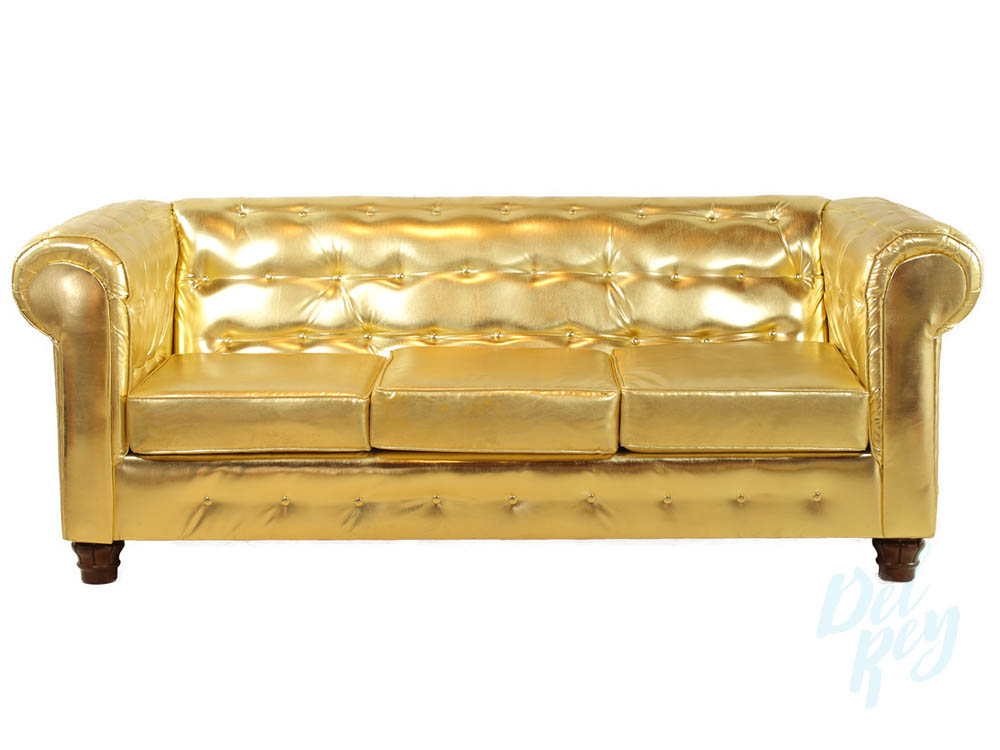chairs: (19, 179, 976, 586)
